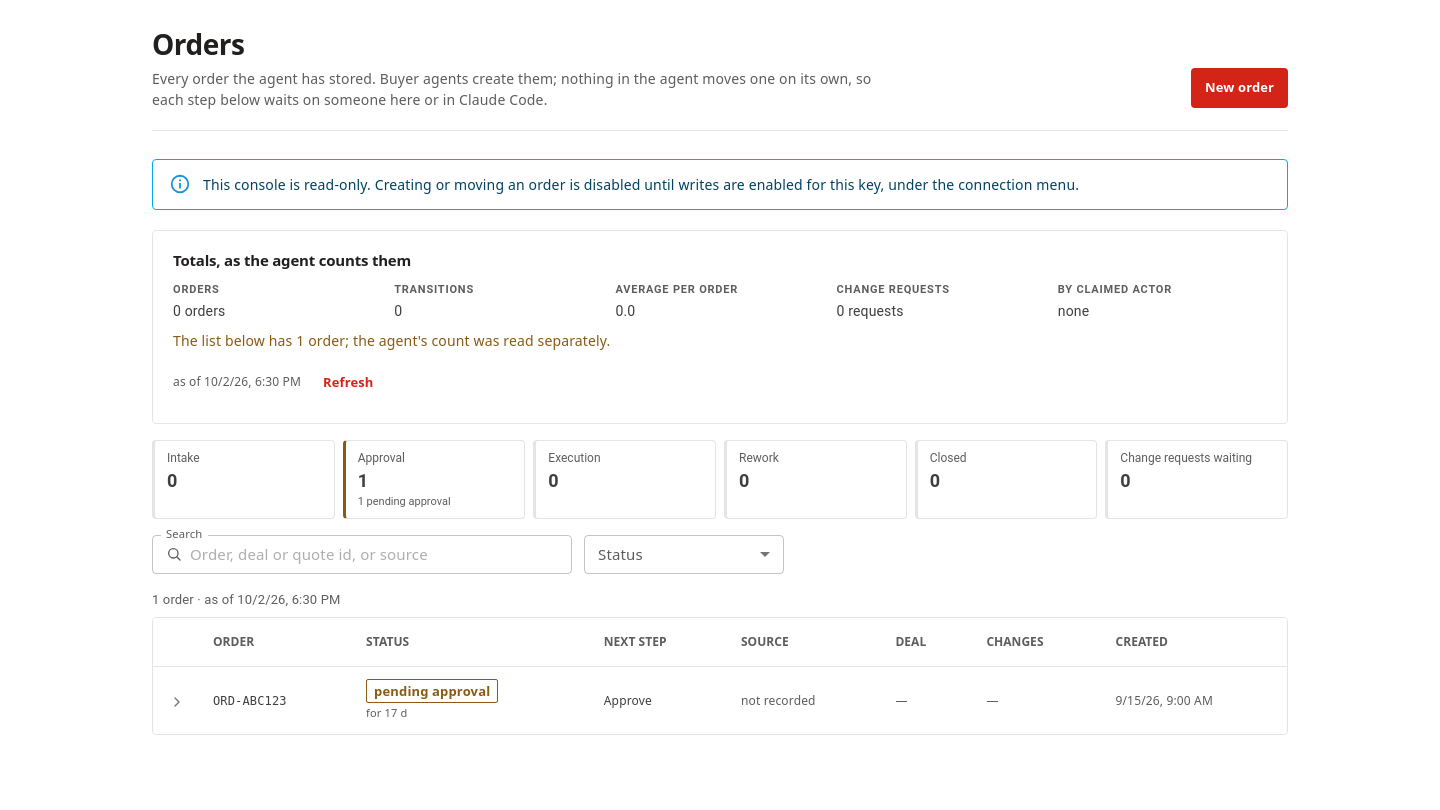
the orders screen › price and terms › goes straight to the quote for an order with no deal
This screenshot has width=1440, height=810.
Click the button named "Show ORD-ABC123" at (177,702), box [169, 694, 185, 710]
(page scrolled)
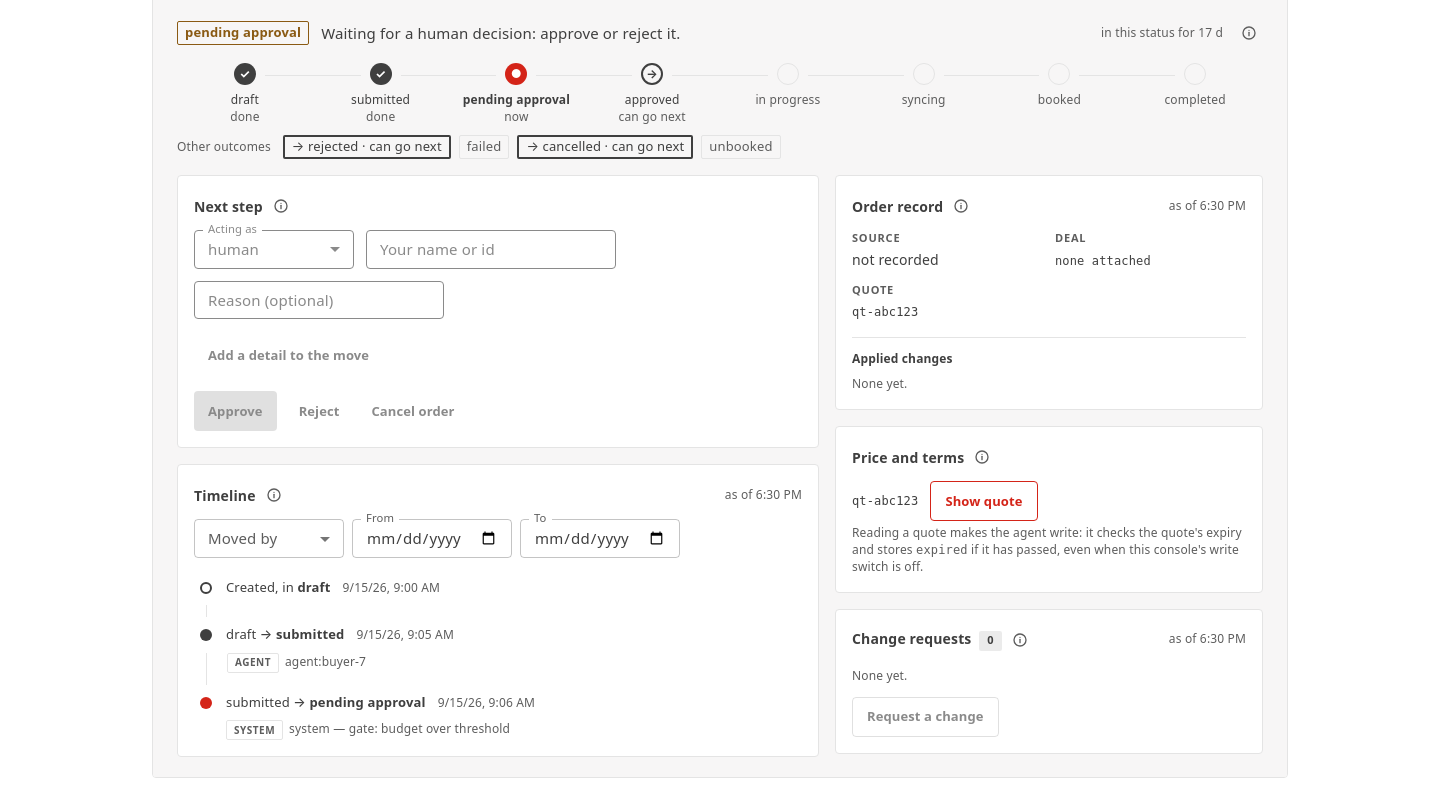
Result: the element that starts with "pending approval" is shown
Result: the element that starts with "Price and terms" is shown at [835, 426, 1263, 593]
Result: the button "Show quote" is shown at [930, 481, 1038, 521]
